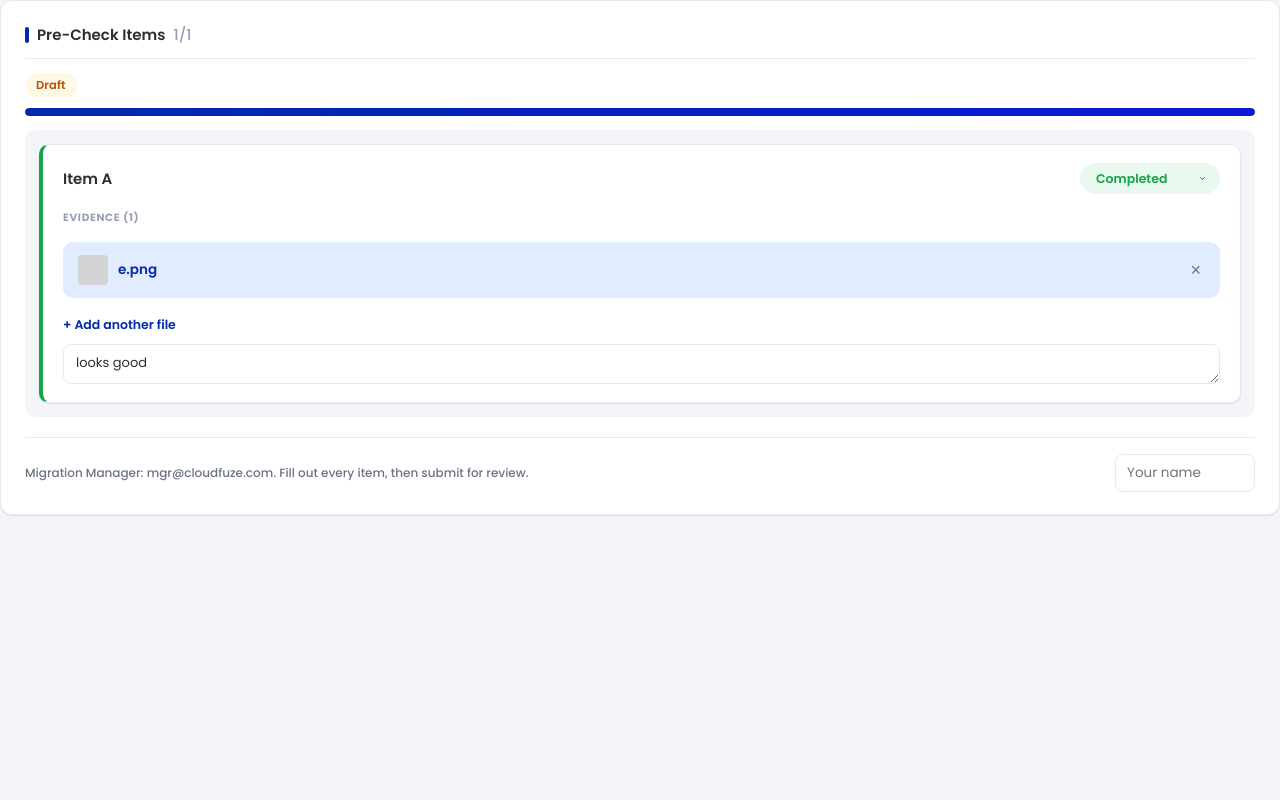
Test: PreCheckPanel › shows an error when the submit fails
This screenshot has width=1280, height=800.
Expected: the heading "Pre-Check Items 1/1" is shown, top-left (25, 23), bottom-right (1255, 59)
In the field labelled "Your name": (1185,473) top-left (1115, 454), bottom-right (1255, 492), type "Tester"
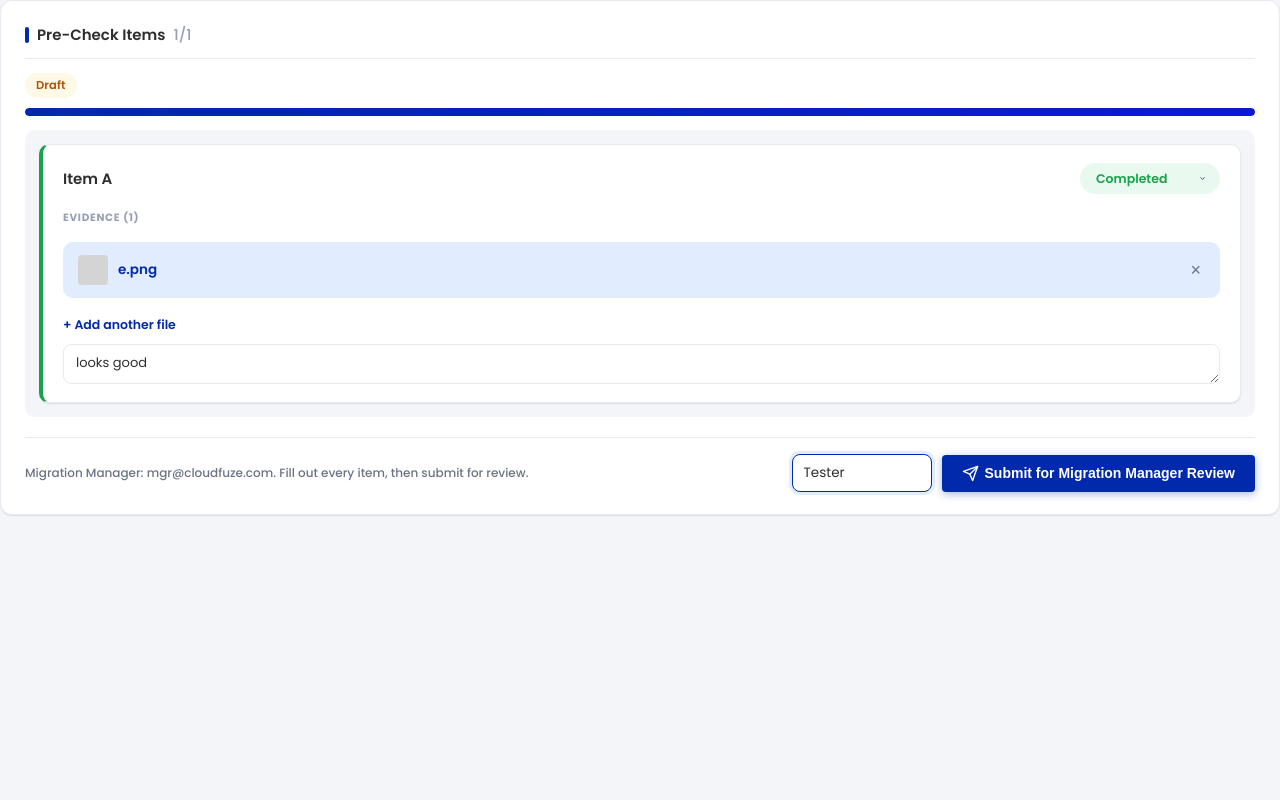
Click the button "Submit for Migration Manager Review": (1098,473) top-left (942, 454), bottom-right (1255, 492)
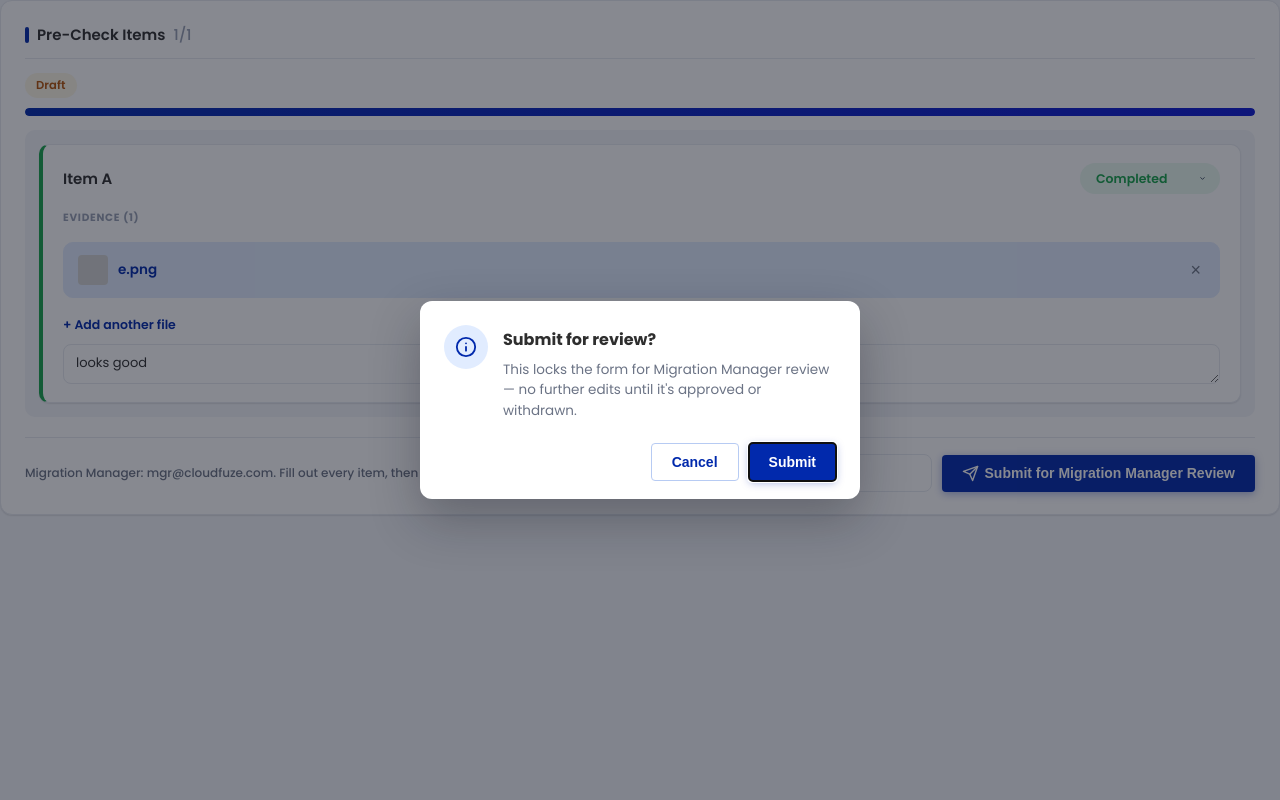
Click the button "Submit": (792,462) top-left (748, 443), bottom-right (836, 481)
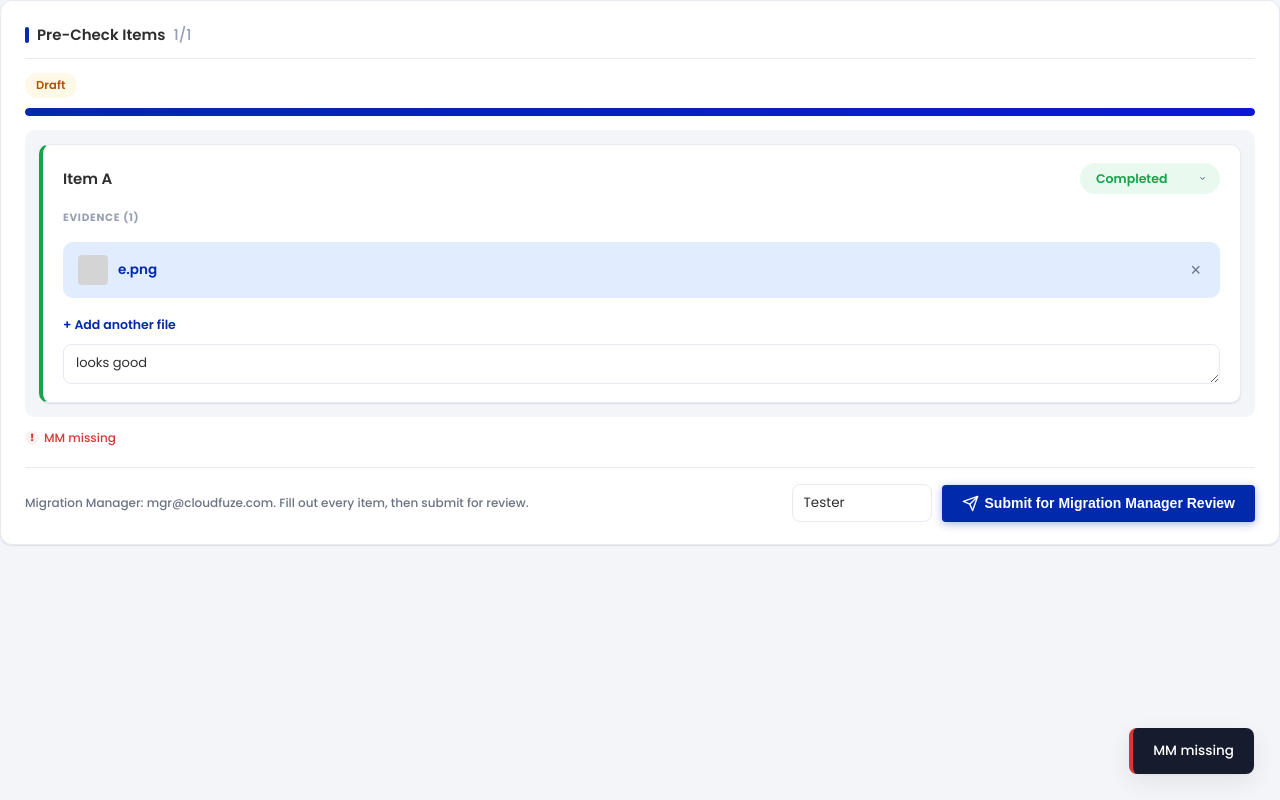
Expected: the text "MM missing" is shown, top-left (44, 429), bottom-right (116, 446)
